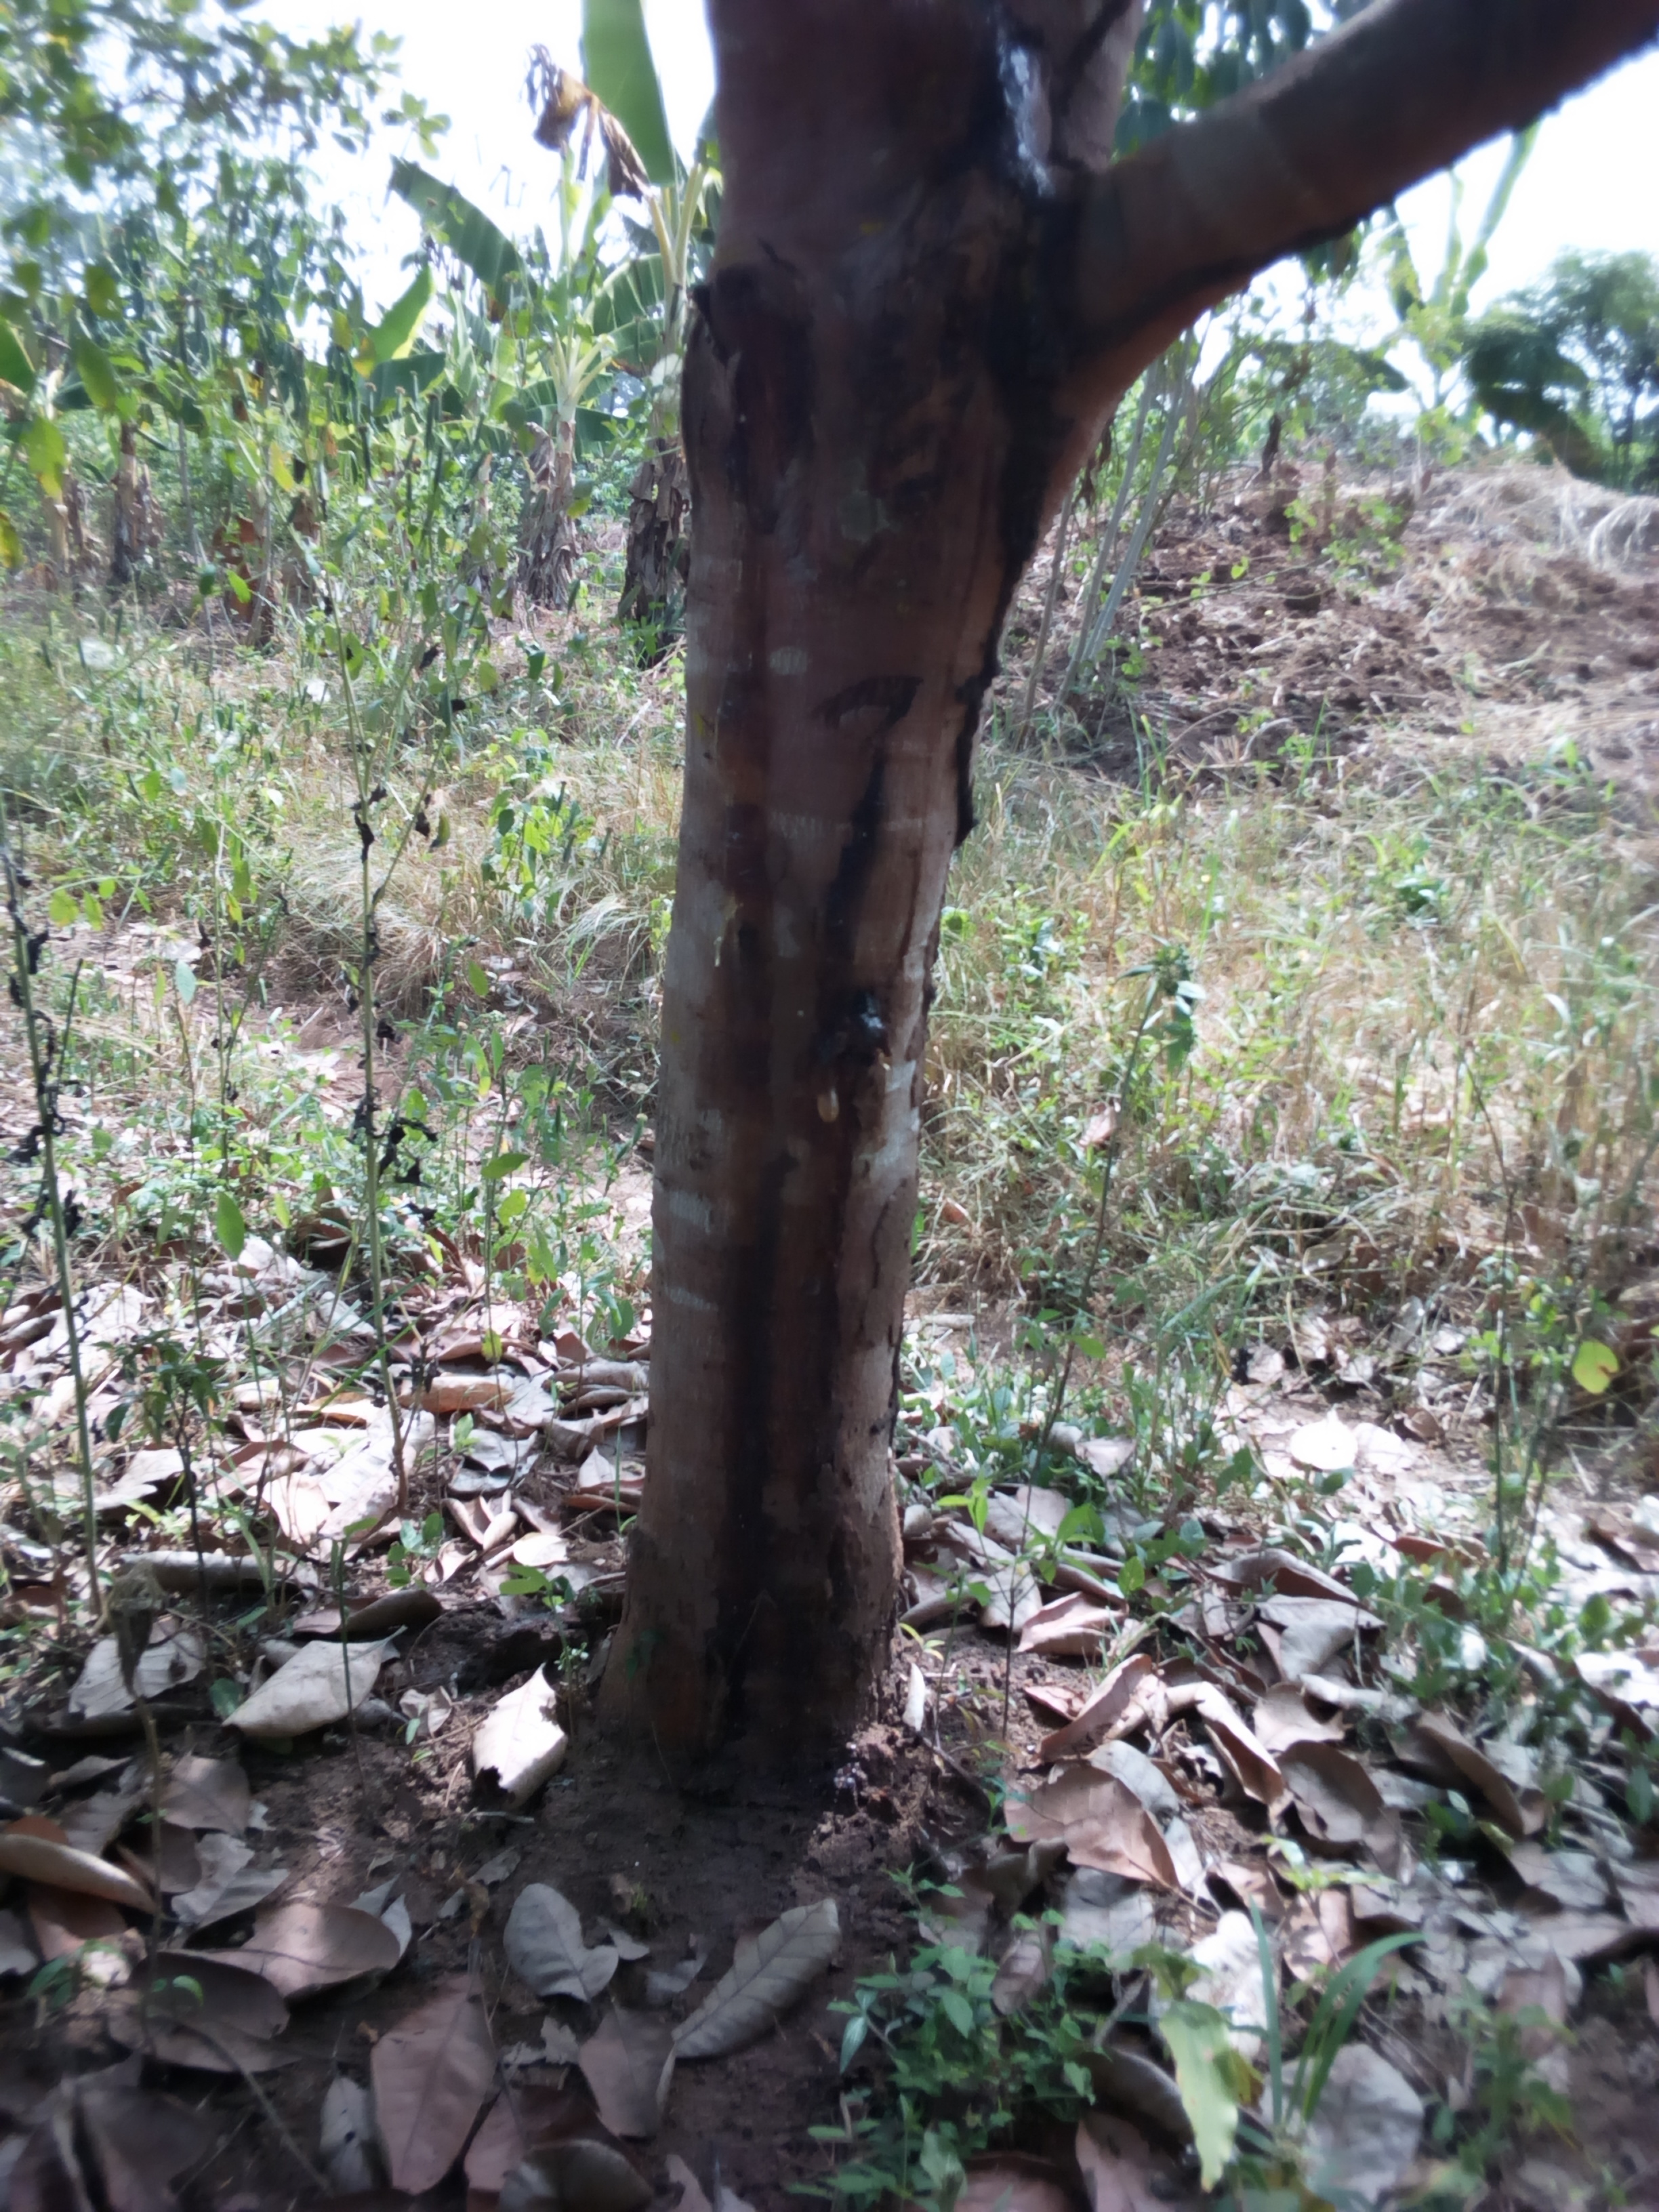Mecocorynus longiceps: (798, 948, 945, 1143)
